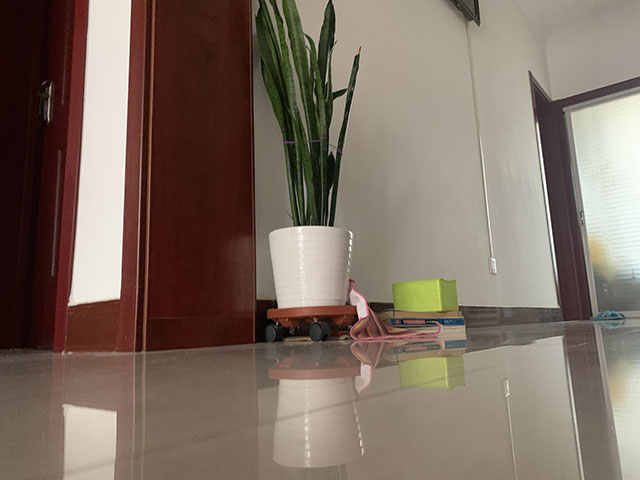book: (377, 309, 466, 329)
slippers: (590, 309, 627, 321)
